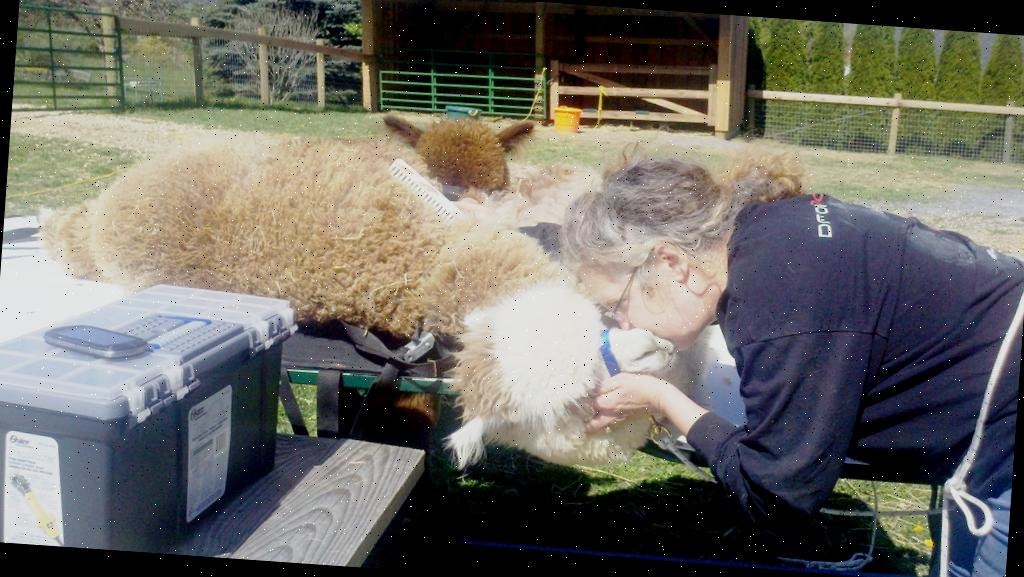Sheep: (69, 76, 686, 460), (407, 154, 818, 482)
